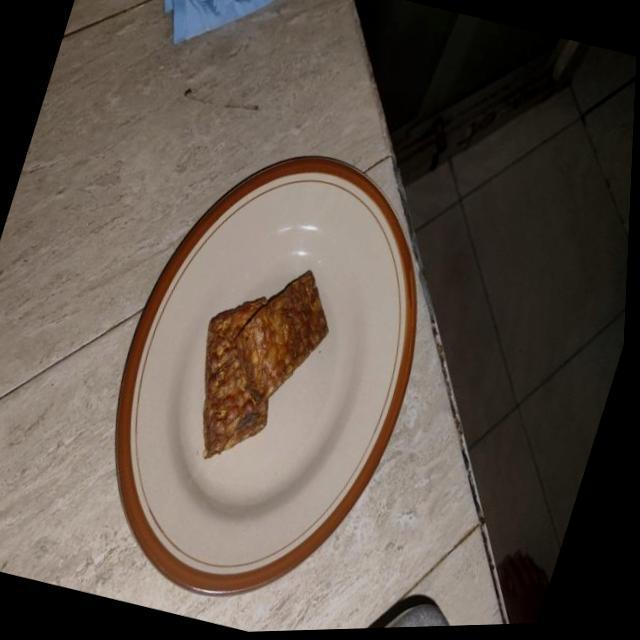tempe_goreng: (234, 270, 328, 404), (202, 297, 268, 458)
